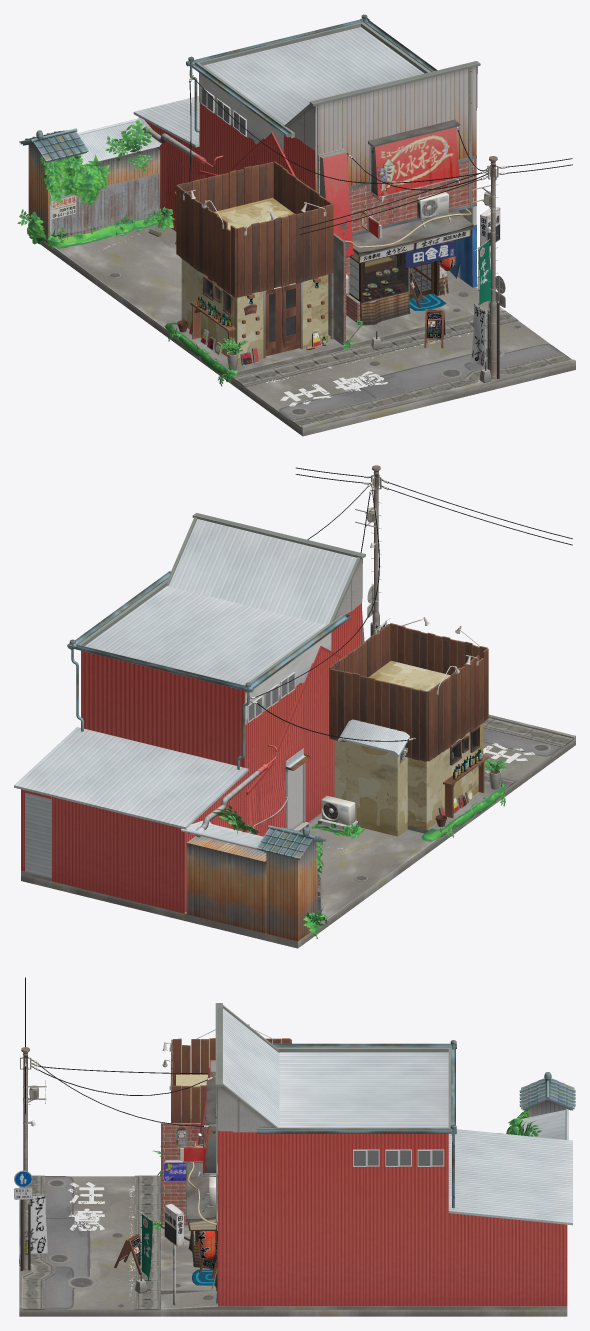
3 renders of one model, top to bottom at view 1: azimuth 30°, elevation 25°; view 2: azimuth 150°, elevation 25°; view 3: azimuth 270°, elevation 25°, orthographic.
Parts seen in each view (by area): view 1: Inakaya; view 2: Inakaya; view 3: Inakaya.
Part boxes in pixels (x1=…): Inakaya: x1=17, y1=14, x2=575, y2=436; Inakaya: x1=14, y1=465, x2=575, y2=948; Inakaya: x1=14, y1=977, x2=575, y2=1316.
Size of the model in its own units: 8.38 by 6.32 by 13.35.
Materials: 5 (3 with a texture image).
